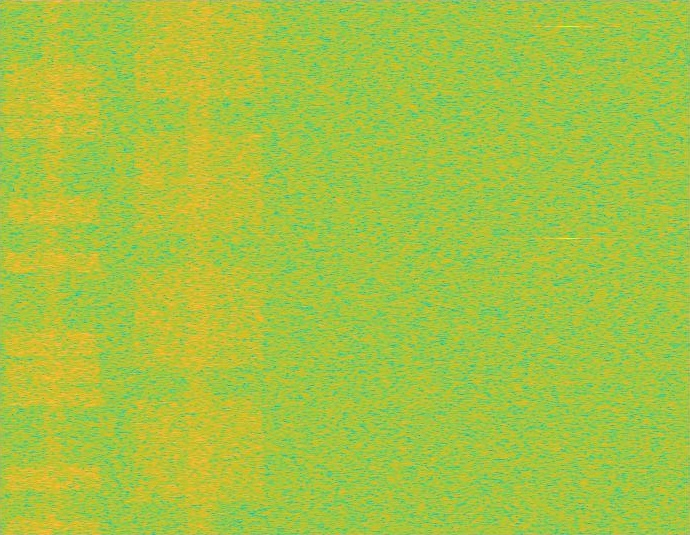5G: (130, 0, 268, 534)
DSSS: (184, 0, 215, 534), (41, 0, 64, 534)
LTE: (1, 0, 104, 534)
Radar: (562, 0, 576, 534)
